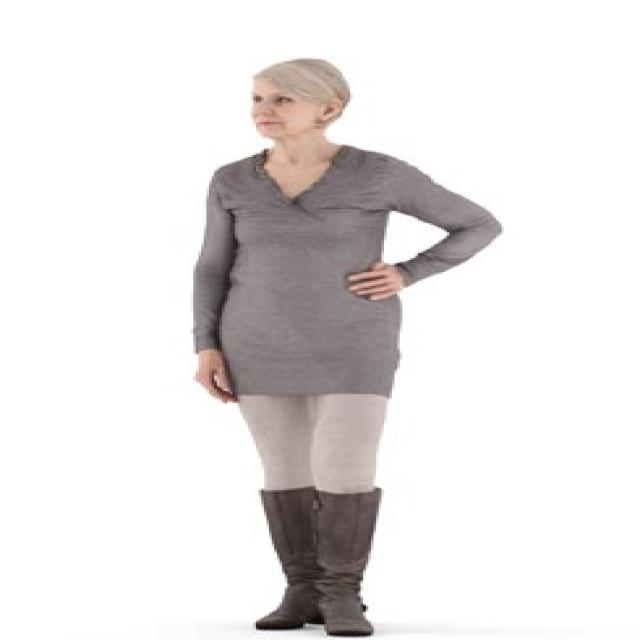standing: (185, 56, 507, 640)
